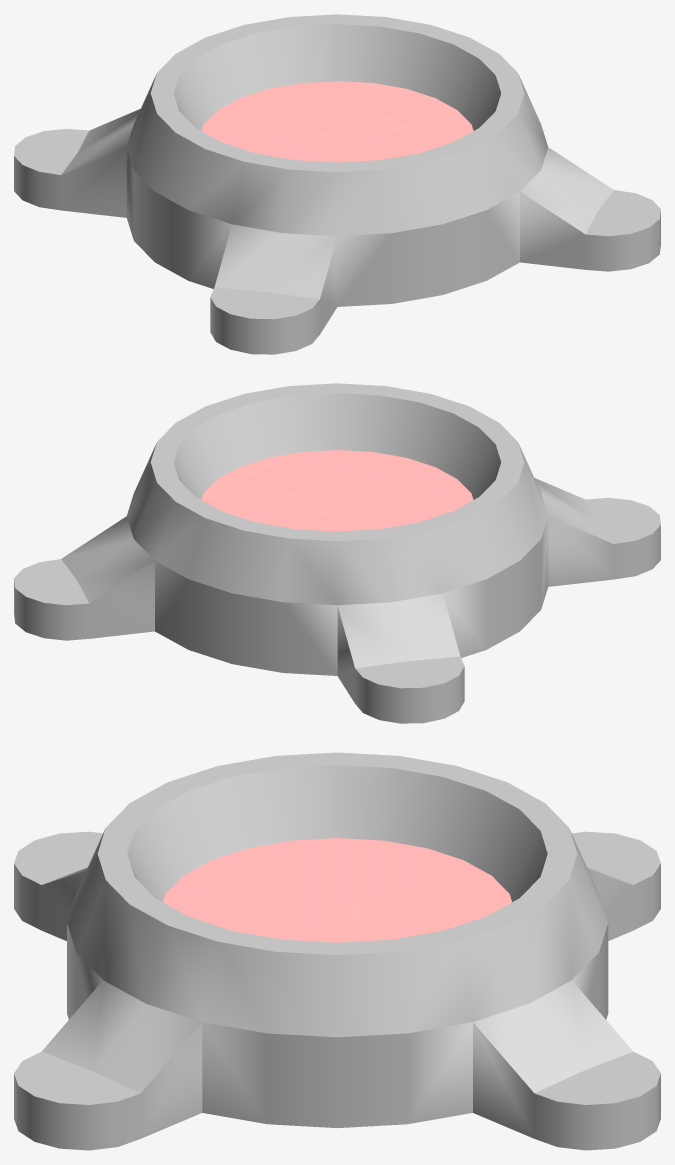
File: KB3D_CBP_Light_B.fbx
The picture shows the model from 3 angles, top to bottom: view 1: azimuth 30°, elevation 25°; view 2: azimuth 150°, elevation 25°; view 3: azimuth 270°, elevation 25°; orthographic projection. The views are drawn at different scales.
Parts seen in each view (by area): view 1: KB3D_CBP_Light_B_Main; view 2: KB3D_CBP_Light_B_Main; view 3: KB3D_CBP_Light_B_Main.
Boxes of the visible parts, box(x1,y1,x2,y2) form: KB3D_CBP_Light_B_Main: box(14, 14, 660, 354); KB3D_CBP_Light_B_Main: box(14, 383, 660, 723); KB3D_CBP_Light_B_Main: box(14, 752, 660, 1150).
Bounding box in the file's own units: 25.25 × 6.89 × 25.25.
